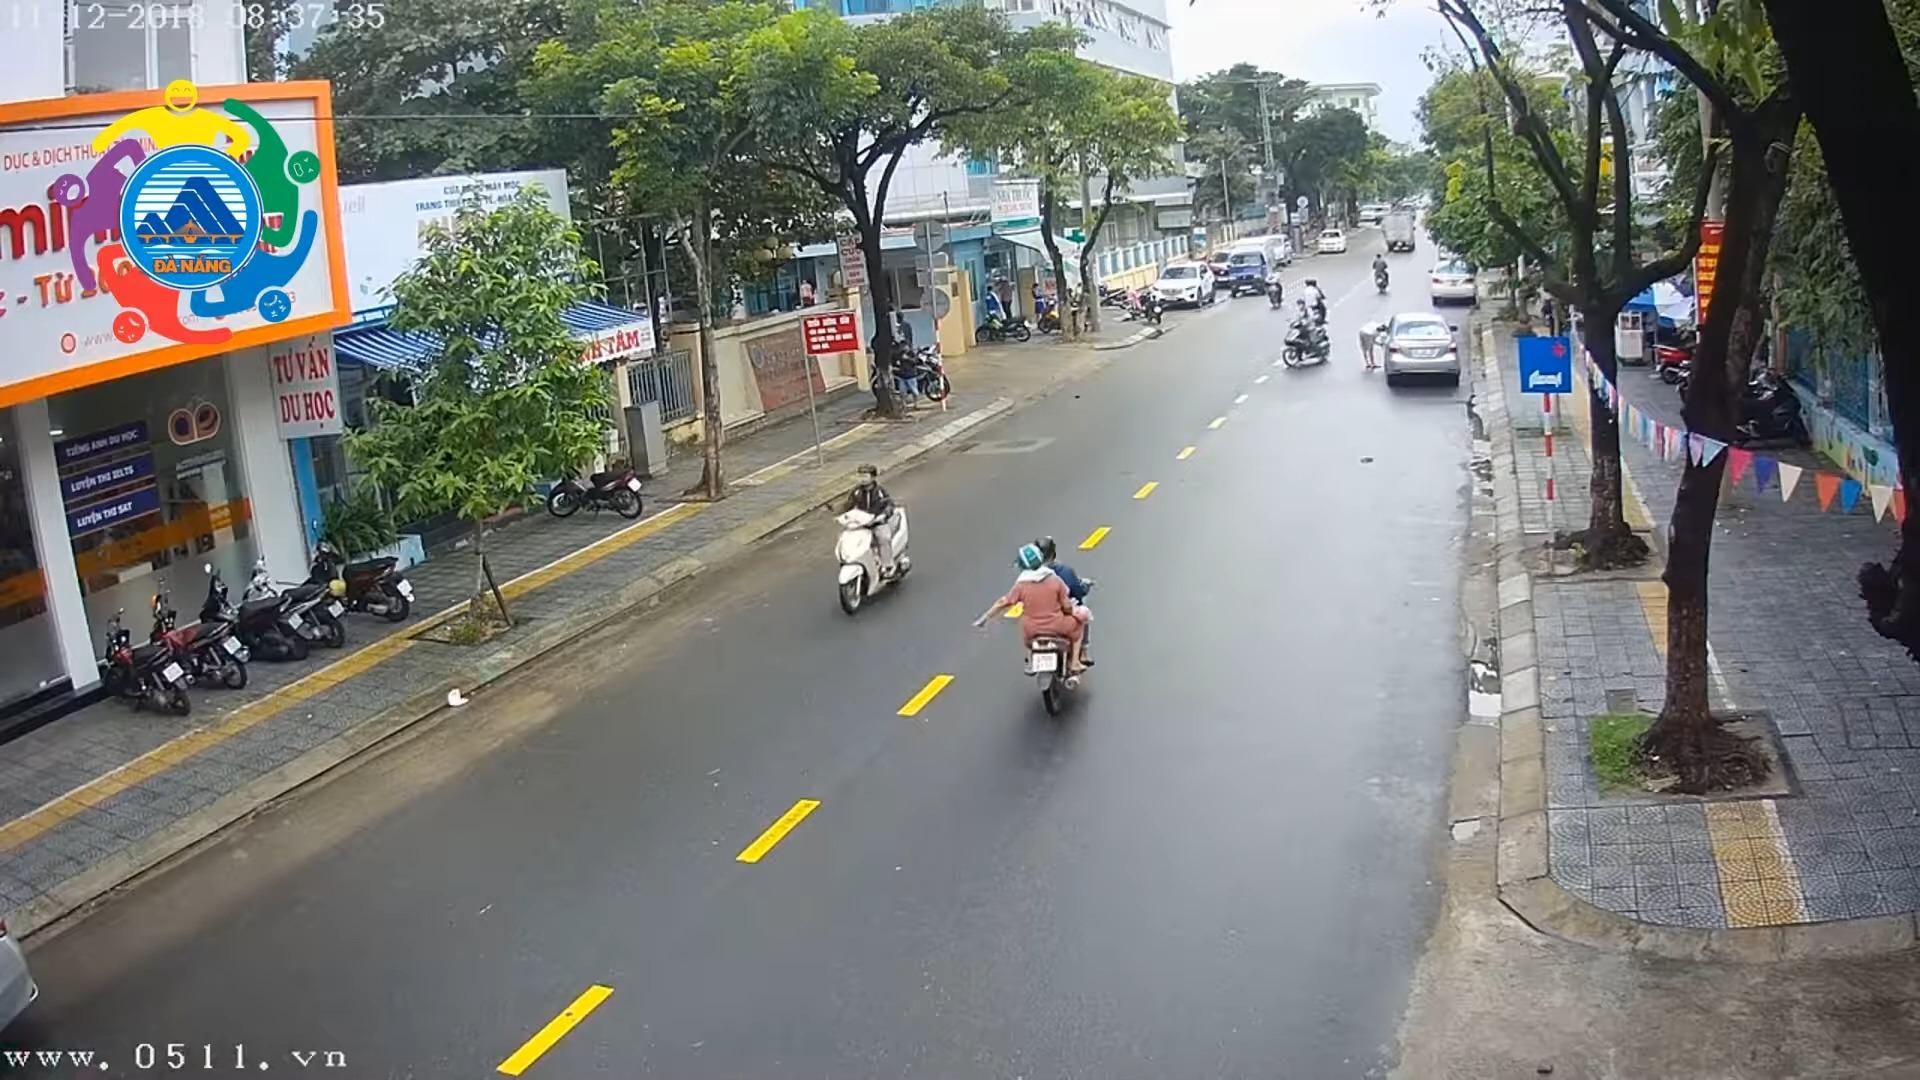car: (1375, 306, 1472, 392), (1147, 258, 1217, 309), (1424, 255, 1484, 311), (1315, 224, 1349, 255)
motorcycle: (961, 518, 1129, 720), (816, 451, 932, 629), (198, 558, 313, 663), (299, 518, 414, 624), (148, 583, 248, 691), (102, 603, 194, 717), (245, 554, 348, 647), (550, 454, 645, 518), (862, 342, 953, 404), (1276, 297, 1337, 381), (976, 306, 1031, 345), (1300, 273, 1336, 332), (1364, 252, 1398, 297), (1262, 268, 1288, 307)
truck: (1222, 236, 1286, 302), (1378, 207, 1420, 256)
